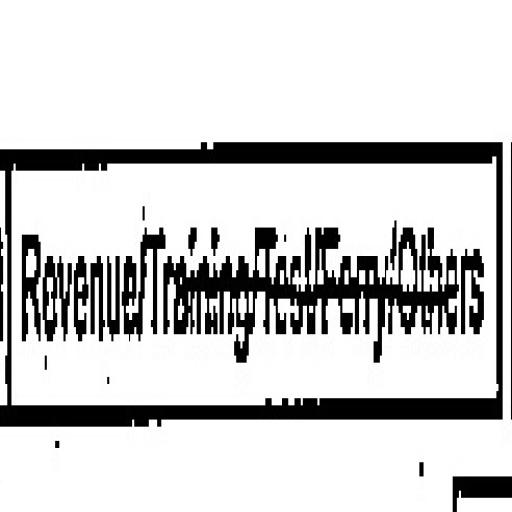check: (18, 151, 142, 446)
